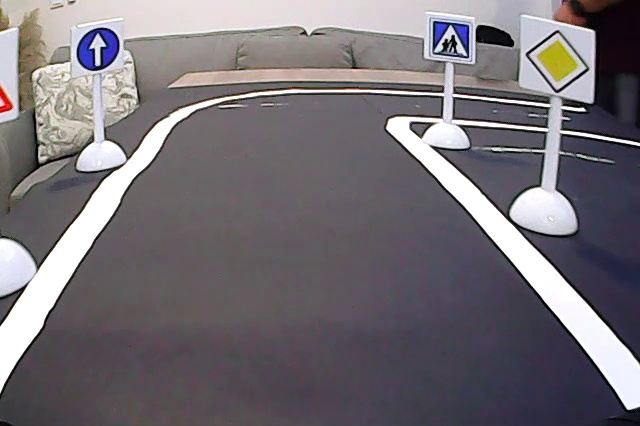school crossing: (428, 16, 474, 62)
